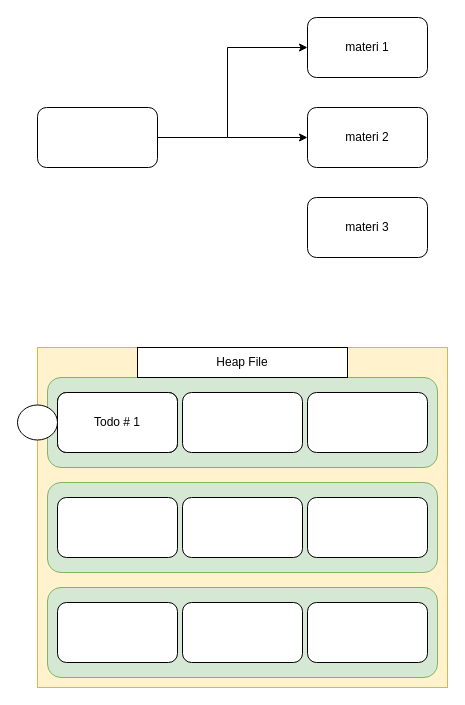
Image size: 465x705. Some labels were removed from this diagram. Each missing label, with the centre of its shape:
"8kb" goes at (x=37, y=422).
"guru" goes at (x=97, y=137).
